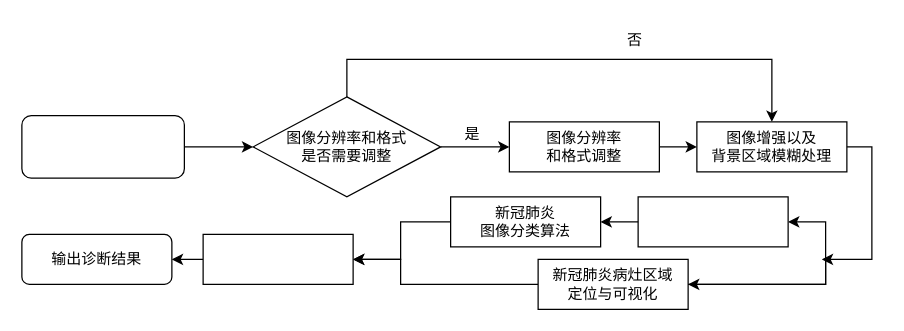
Some shapes in this 904 by 331 pixel diagram are drawn without their labels. The shapes that lost their labels are listed below. From the top down, each one's centre as x and y in pixels, then its label:
(102,146): 新冠肺炎图像 （原始、数据增强、 GAN生成）
(712,221): 划分数据集以及 调整输入大小
(277,258): 新冠肺炎 识别与诊断系统
